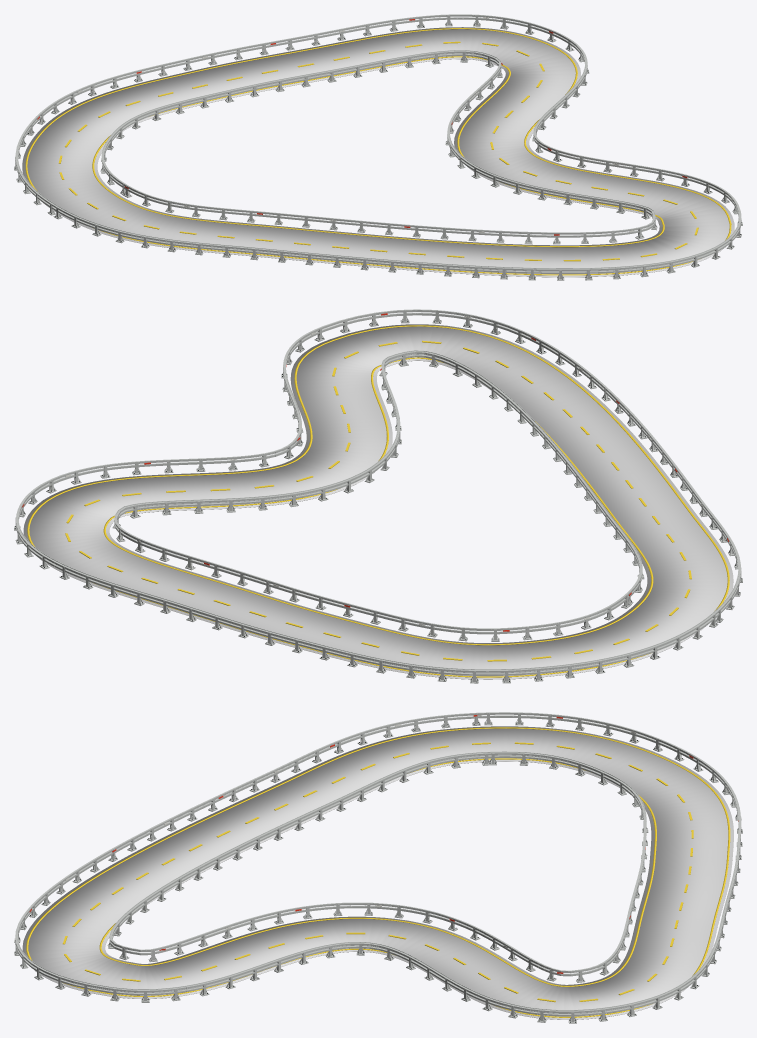
Rendered from CurrentBlenderTrack.fbx.
3 views of the same model, one above another, from view 1: azimuth 30°, elevation 25°; view 2: azimuth 150°, elevation 25°; view 3: azimuth 270°, elevation 25° (orthographic). The views are drawn at different scales.
Parts seen in each view (by area): view 1: Track_RoadSurface, Track_Guardrail_Metal, Track_Guardrail_Dark; view 2: Track_RoadSurface, Track_Guardrail_Metal, Track_Guardrail_Dark; view 3: Track_RoadSurface, Track_Guardrail_Metal, Track_Guardrail_Dark.
Part boxes in pixels (x1,y1,x2,y2): Track_RoadSurface: (22,27,734,277); Track_Guardrail_Metal: (14,14,742,280); Track_Guardrail_Dark: (14,23,742,279); Track_RoadSurface: (23,324,733,679); Track_Guardrail_Metal: (14,309,742,683); Track_Guardrail_Dark: (14,319,742,682); Track_RoadSurface: (22,726,733,1019); Track_Guardrail_Metal: (14,712,742,1023); Track_Guardrail_Dark: (15,722,742,1022).
Size of the model in its own units: 68.93 by 1.28 by 70.55.
